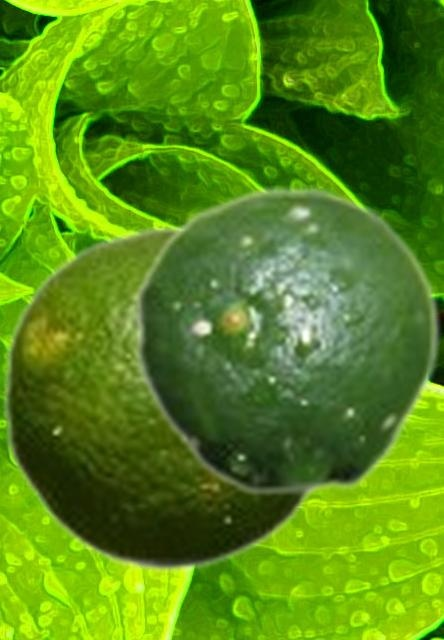calamansi: (0, 224, 318, 571), (133, 185, 441, 497)
